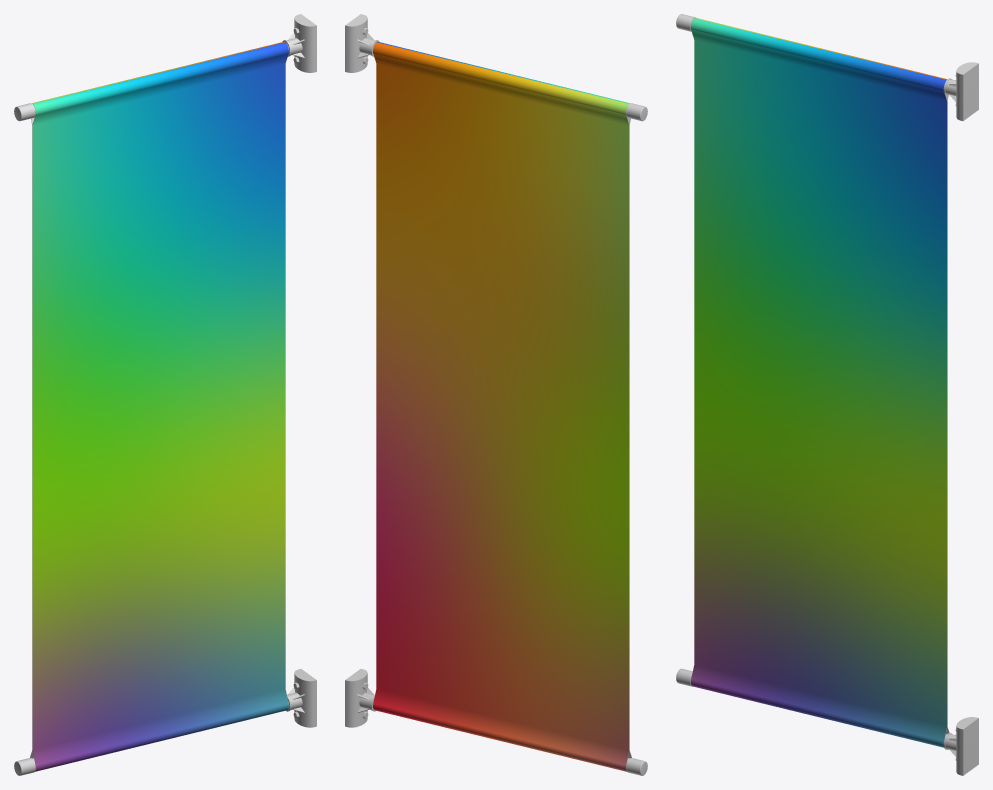
File: street_banner_01_large.glb
3 renders of one model, left to right at view 1: azimuth 30°, elevation 25°; view 2: azimuth 150°, elevation 25°; view 3: azimuth 330°, elevation 25°, orthographic.
Visible parts, largest first — view 1: street_banner_01_large; view 2: street_banner_01_large; view 3: street_banner_01_large.
Boxes of the visible parts, bbox=[...] form: street_banner_01_large: bbox=[14, 14, 316, 775]; street_banner_01_large: bbox=[345, 14, 647, 775]; street_banner_01_large: bbox=[676, 14, 978, 775].
Size of the model in its own units: 0.7022 by 1.61 by 0.0655.
3 materials, 3 textured.
